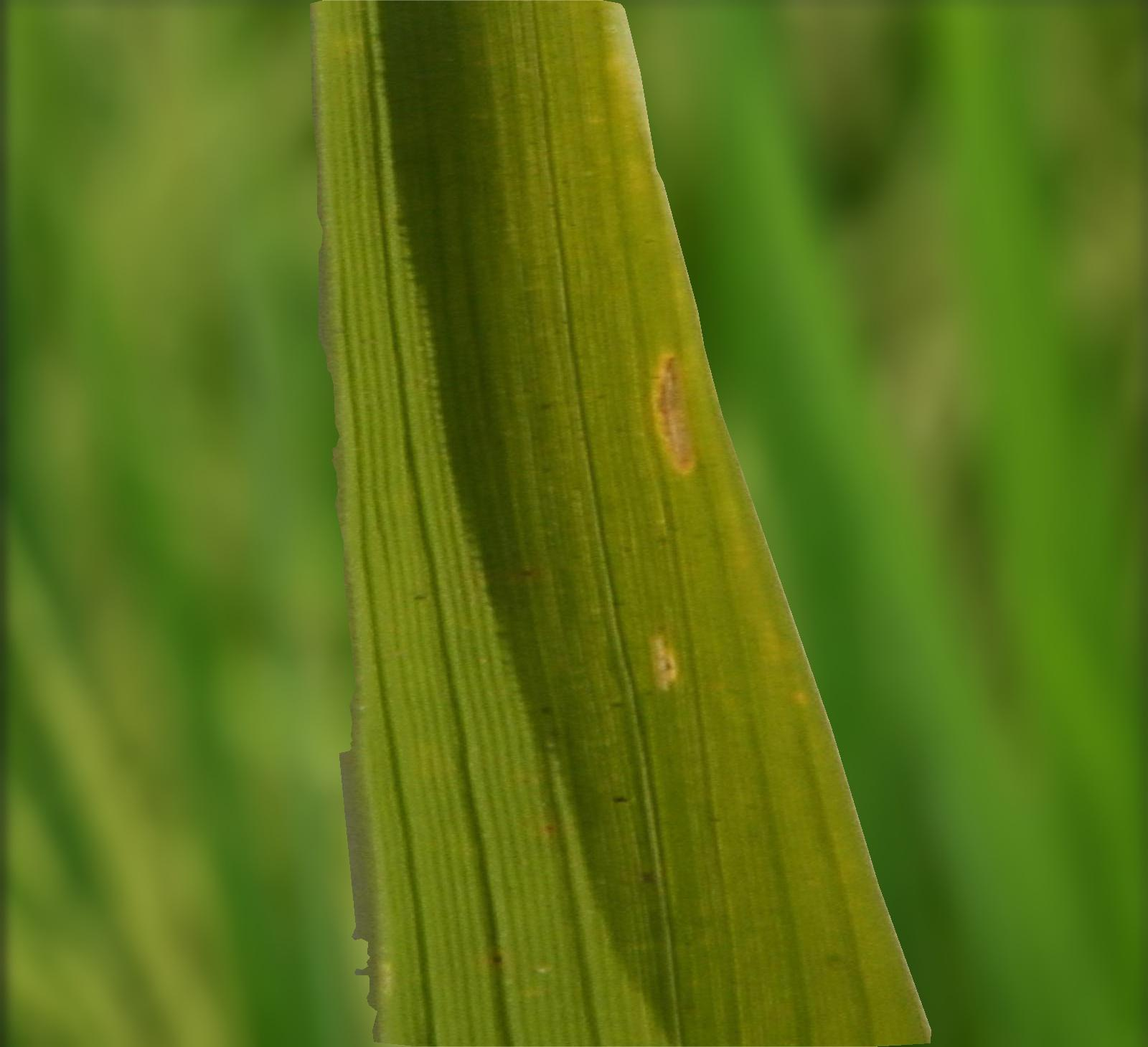BLS: (651, 352, 696, 474)
LEAF: (310, 0, 931, 1046)
